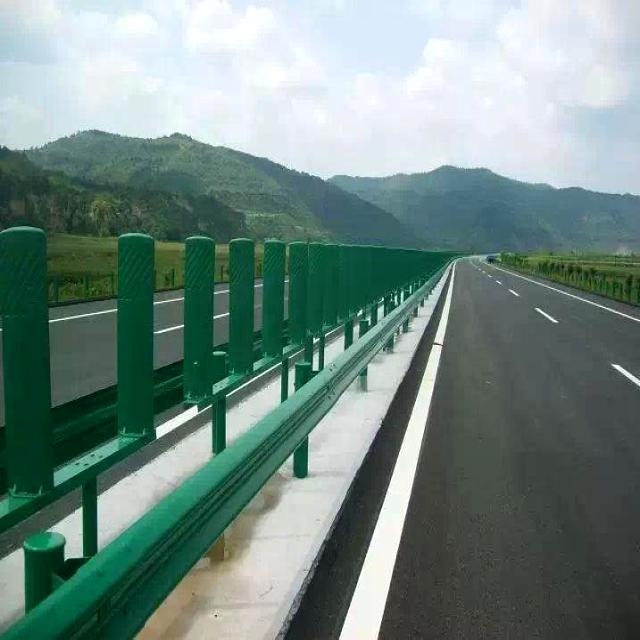Guard rail: (2, 277, 435, 638), (51, 385, 118, 466), (154, 361, 182, 412), (0, 426, 8, 494)
